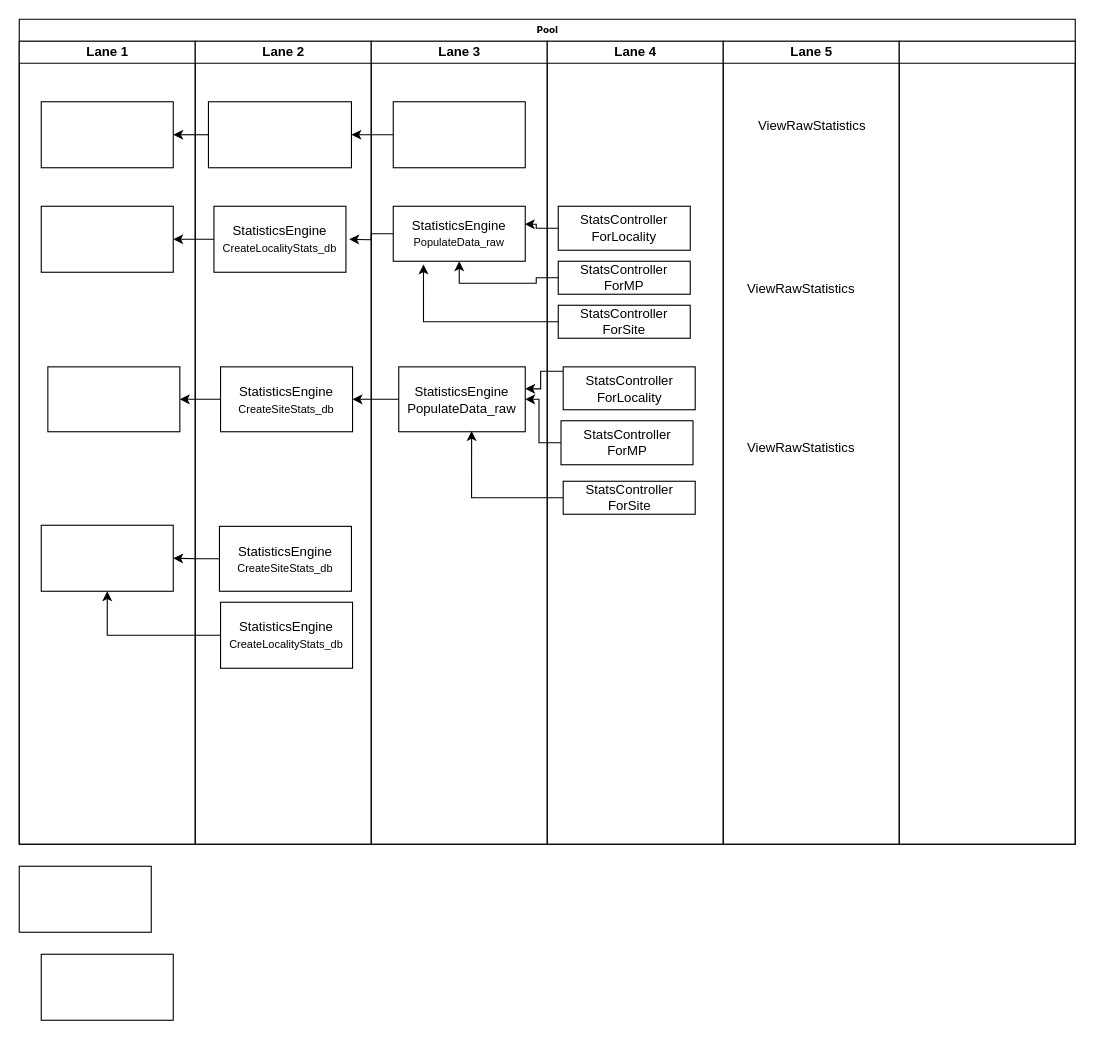
This 1095x1040 diagram has some shape labels left out. Each missing label, with the centre of its shape:
"BillingCRUD HandleMeasuringPointsByType" belongs at (x=106, y=134).
"BillingCRUD Process" belongs at (x=458, y=134).
"BillingCRUD ProcessRealMeasuringPoints" belongs at (x=279, y=134).
"Lane 6" belongs at (x=986, y=442).
"LocalityStatisticsBag AddRawSensorData" belongs at (x=106, y=238).
"SiteStatisticsBag AddRawSensorData" belongs at (x=113, y=399).
"StatisticsBag AddRawMeterData" belongs at (x=106, y=557).
